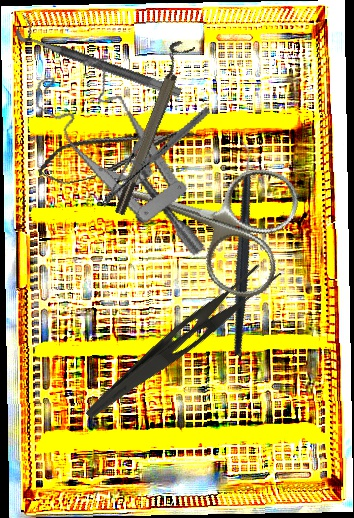Chopper: (157, 136, 321, 358)
Dressing Forceps: (83, 248, 285, 440)
Fixation Ring: (104, 38, 196, 217), (13, 13, 188, 100)
Iris Scissors: (100, 126, 307, 306)
Micro Scissor: (33, 115, 202, 190)
Needle Holder: (99, 84, 212, 230)
Speculum: (26, 38, 208, 287)
